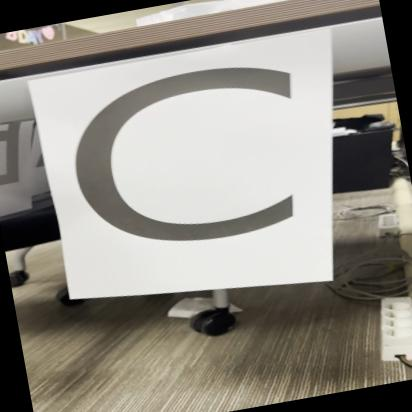seat: (31, 28, 362, 323)
